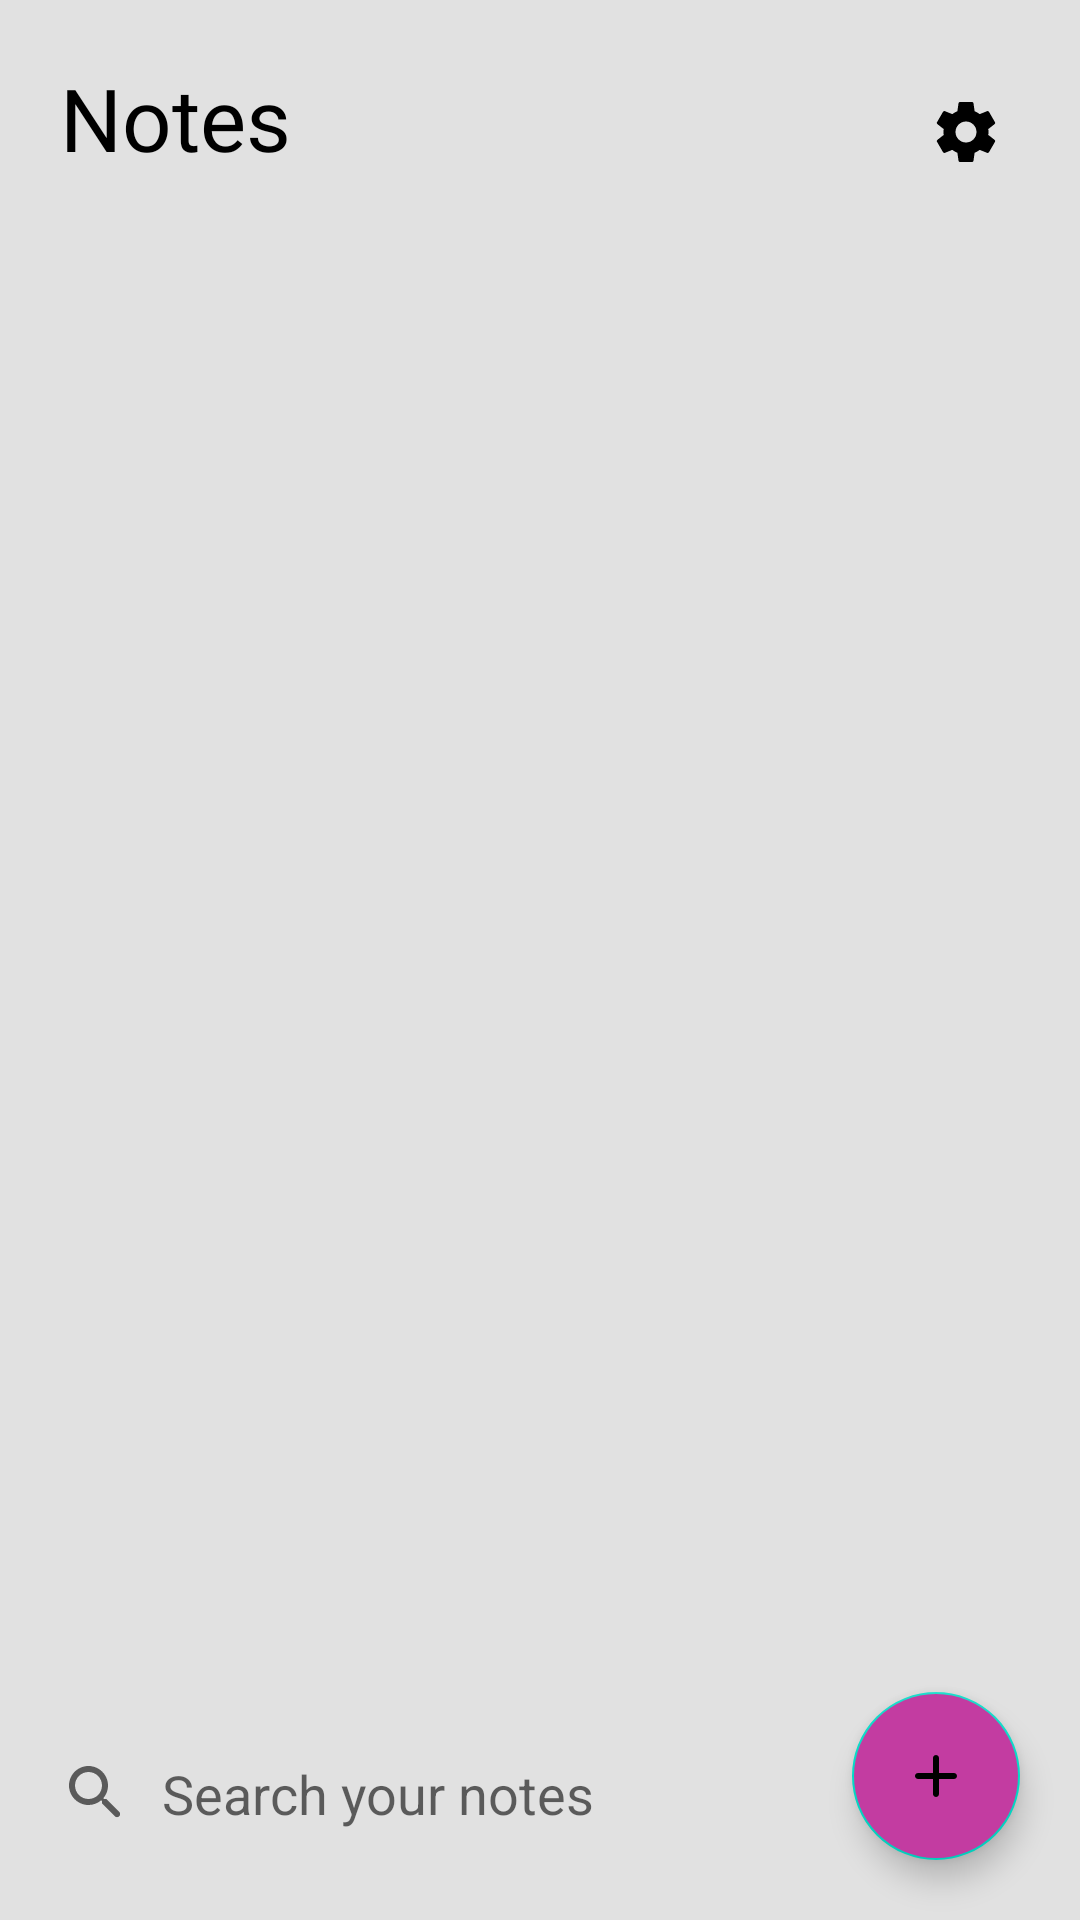

Screen size 1080x1920. Icon name, then its box in pixels as {"left": x1, "top": y1, "right": x2, "bottom": y2}:
add: {"left": 852, "top": 1692, "right": 1020, "bottom": 1860}
settings: {"left": 936, "top": 102, "right": 995, "bottom": 162}
